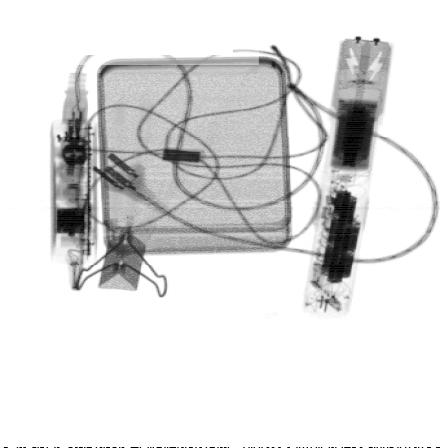Baton: (300, 34, 396, 320)
